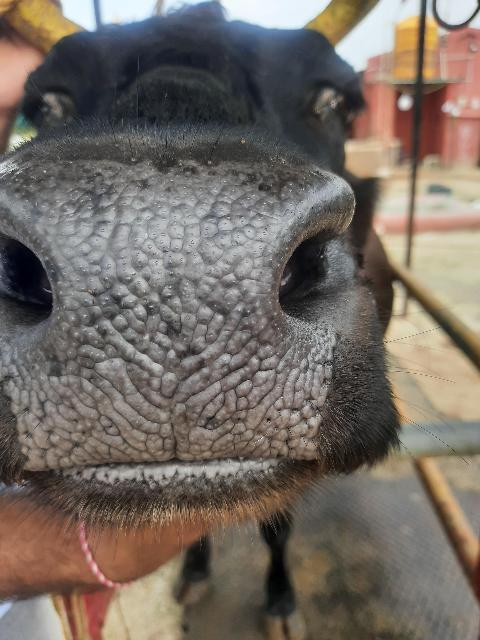Muzzle: (8, 172, 332, 480)
